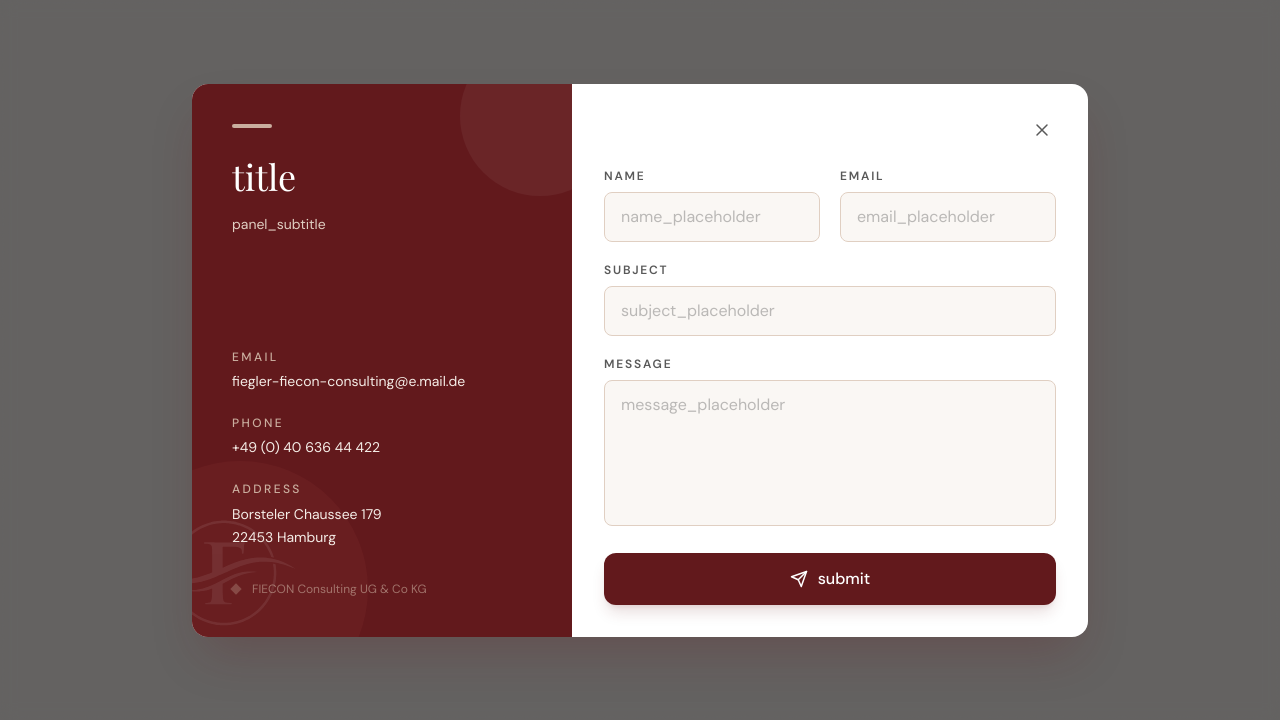
Test: ContactDialog form flow › shows validation errors when submitting empty form
Step 1. Click the button "submit" → x=830, y=578, box left=604, top=552, right=1056, bottom=604
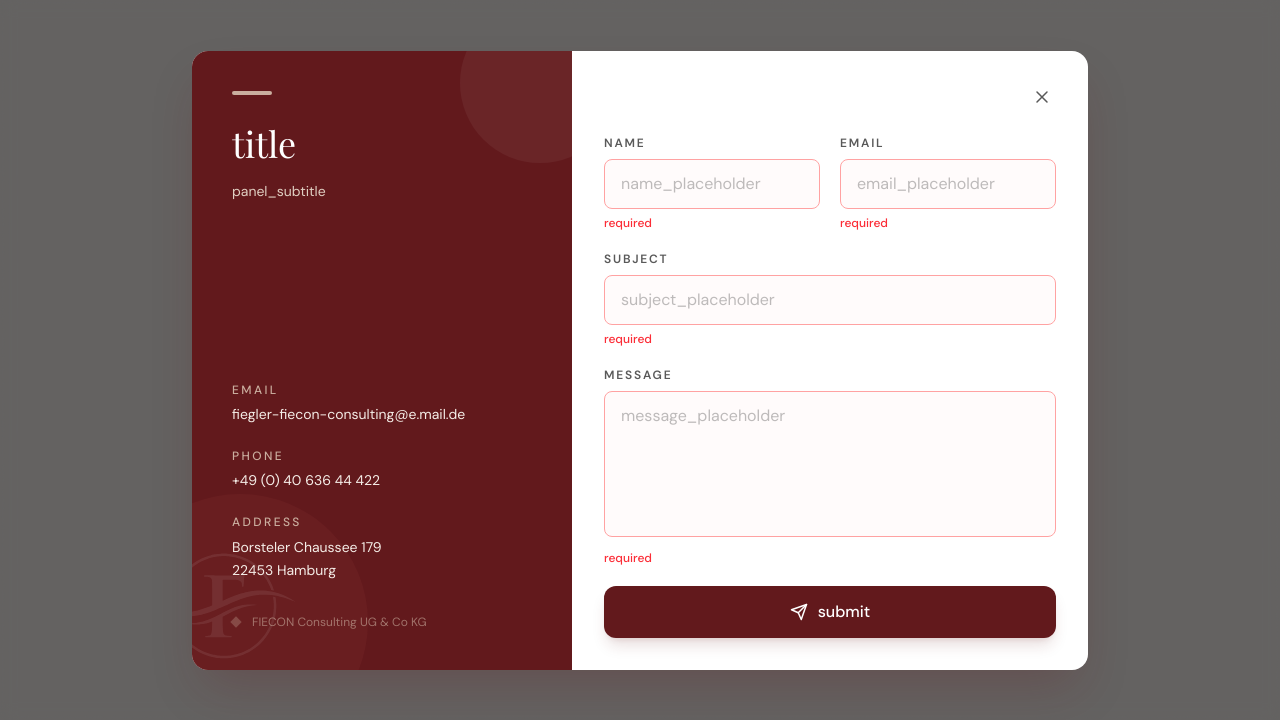
Expected: the text "required" below "name" is shown, left=604, top=214, right=652, bottom=230
Expected: the 2nd text "required" is shown, left=840, top=214, right=888, bottom=230
Expected: the text "required" below "subject" is shown, left=604, top=330, right=652, bottom=346
